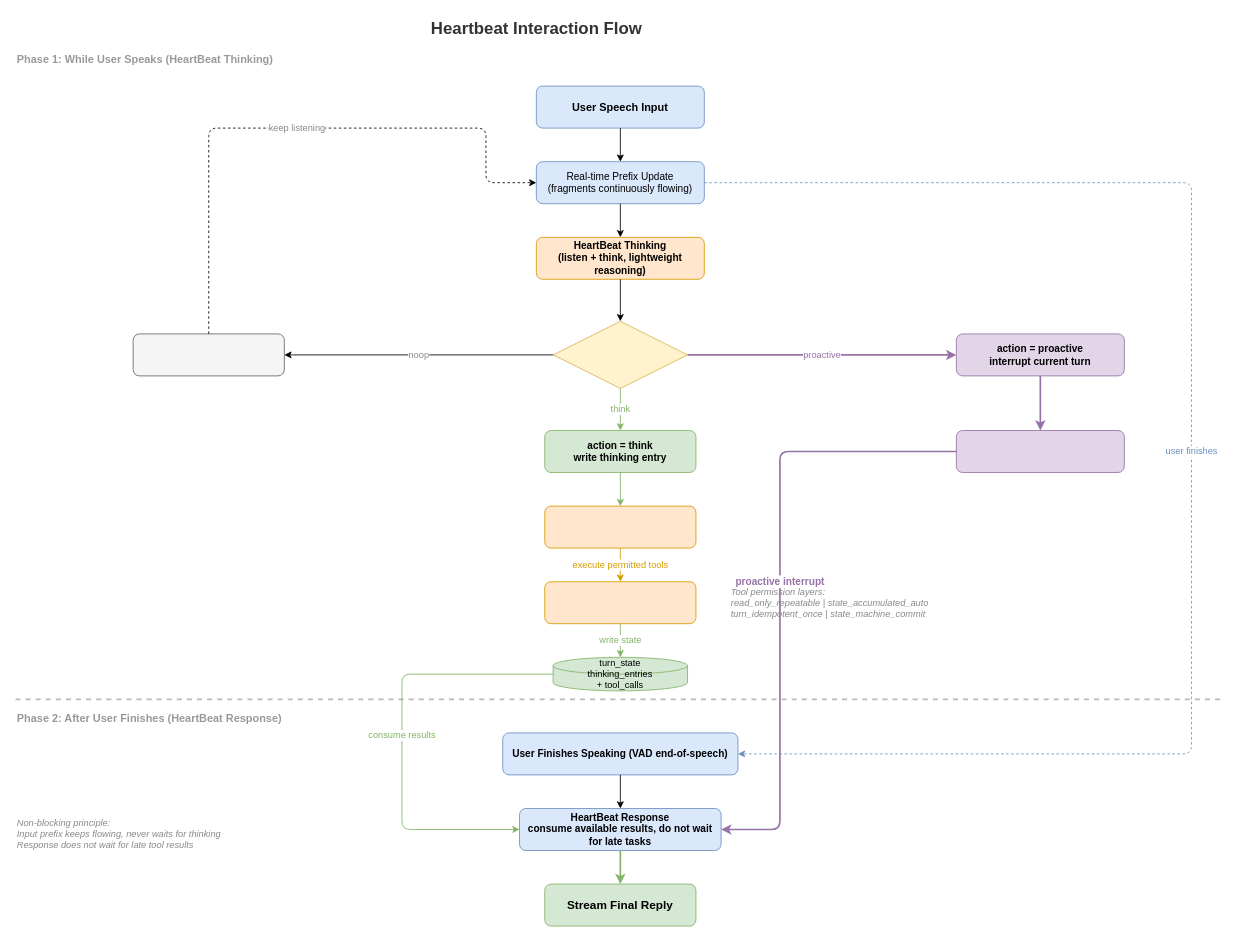
This 1241x941 diagram has some shape labels left out. The box of each missing label's shape, as (x1, y1, x2, y2) in pixels:
action = noop no new stable info: (132, 333, 284, 376)
action decision: (552, 320, 688, 388)
HeartBeat Harness validate / permission layers / dedup: (544, 505, 696, 548)
Proactive Response emit response as main reply: (956, 430, 1124, 472)
Tool Execution pending → completed / failed: (544, 581, 696, 624)
